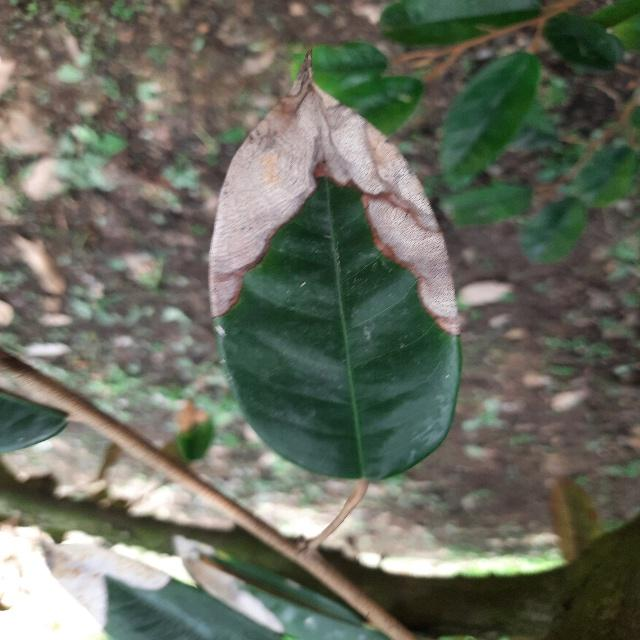Leaf Blight: (198, 43, 469, 495)
